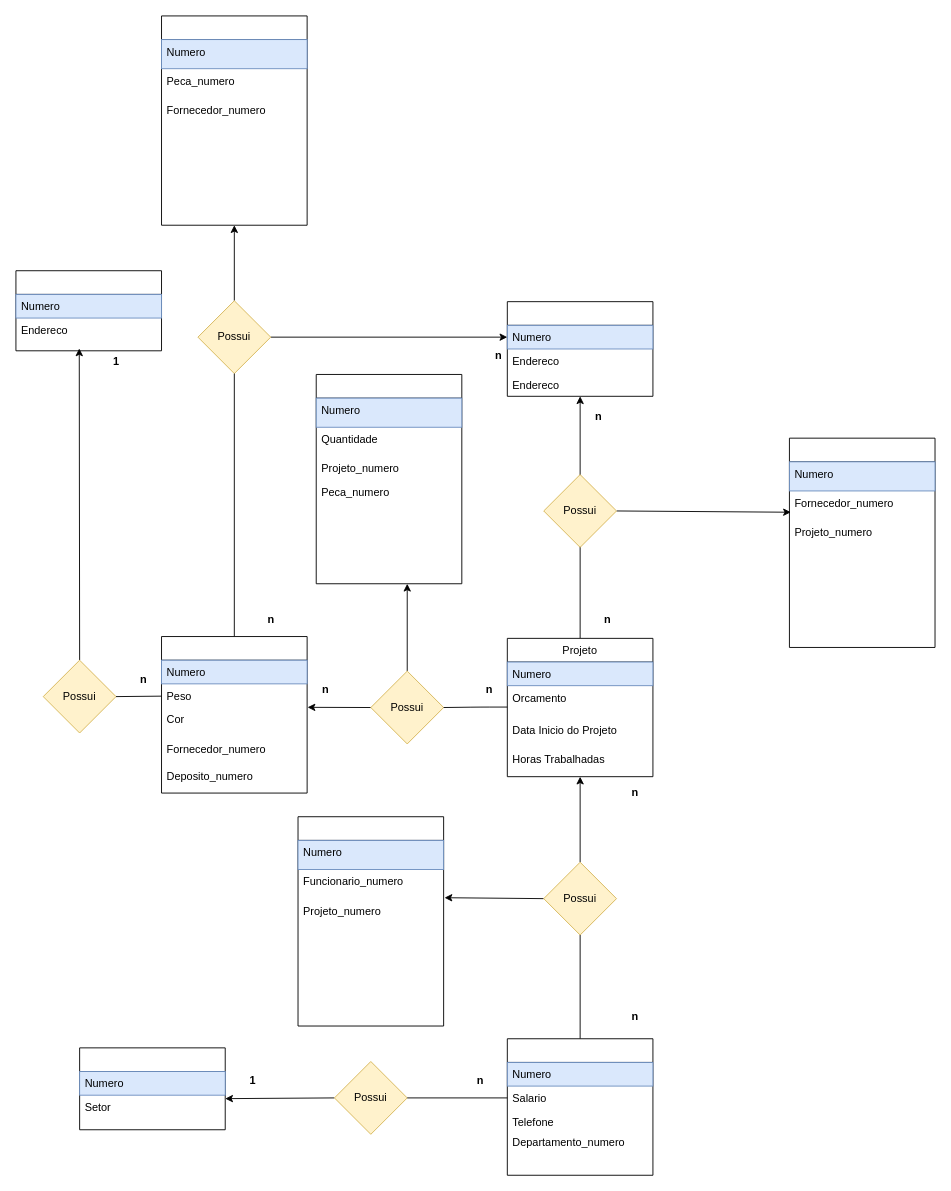
Image size: 951x1191. Some labels were removed from this diagram. The box of each missing label's shape, as (x1, y1, x2, y2) in pixels:
Departamento: (79, 1047, 225, 1130)
Depositos: (15, 270, 162, 351)
Fornecedor: (506, 301, 653, 396)
Funcionario: (506, 1038, 653, 1175)
Material Utilizado: (315, 374, 462, 584)
Peca_fornecedor: (161, 15, 307, 225)
Pecas: (161, 636, 307, 793)
Projeto_fornecedor: (789, 437, 935, 647)
Projeto_funcionario: (297, 816, 444, 1026)
